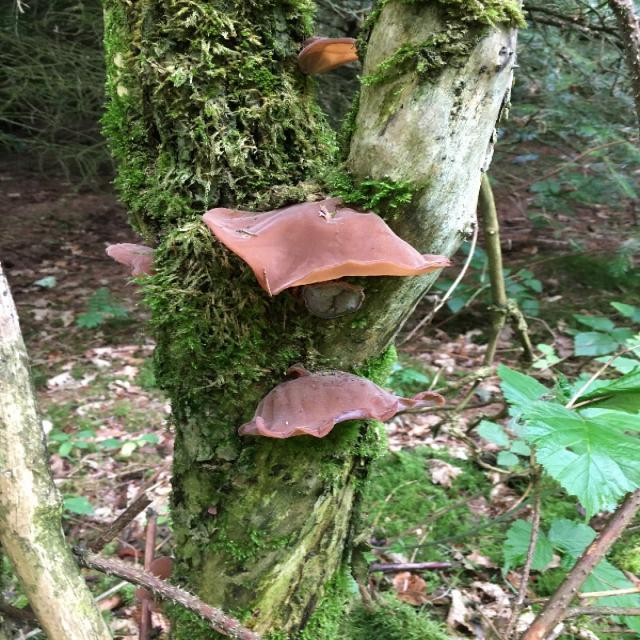Auricularia auricula: (211, 198, 448, 293), (244, 360, 405, 440), (109, 241, 159, 275)
